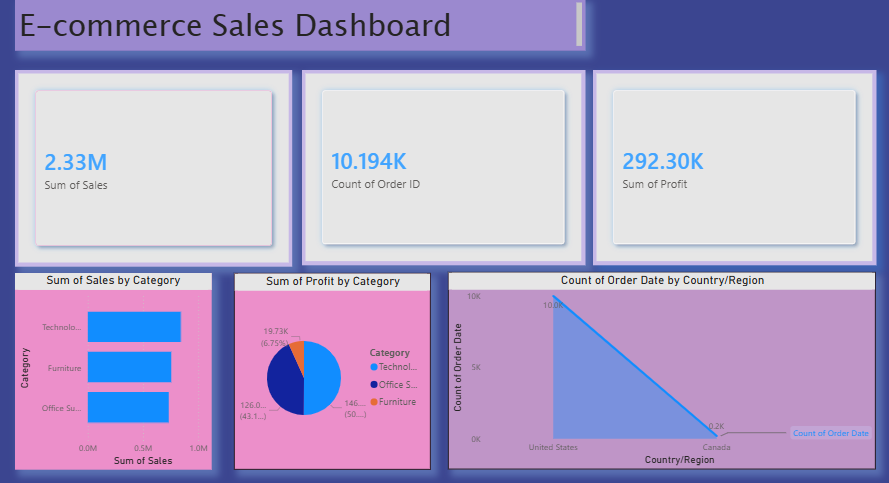

What the dashboard file says about the page in this screenshot:
{"tool":"powerbi","page":{"name":"Page 1","canvas":[1280,720],"ordinal":0},"visuals":[{"type":"cardVisual","fields":{"Data":["Sum(0f0e5ef6-4256-45c6-9f03-6c03ba8.Sales)"]},"box":[21.8,100.8,396.4,280.5],"z":0},{"type":"cardVisual","fields":{"Data":["CountNonNull(0f0e5ef6-4256-45c6-9f03-6c03ba8.Order ID)"]},"box":[431.7,100.8,404.8,278.8],"z":1000},{"type":"textbox","box":[21.8,0,814.7,73.9],"z":2000},{"type":"cardVisual","fields":{"Data":["Sum(0f0e5ef6-4256-45c6-9f03-6c03ba8.Profit)"]},"box":[846.6,100.8,404.8,278.8],"z":3000},{"type":"clusteredBarChart","fields":{"Category":["0f0e5ef6-4256-45c6-9f03-6c03ba8.Category"],"Y":["Sum(0f0e5ef6-4256-45c6-9f03-6c03ba8.Sales)"]},"box":[22,392,281,281],"z":4000},{"type":"pieChart","fields":{"Category":["0f0e5ef6-4256-45c6-9f03-6c03ba8.Category"],"Y":["Sum(0f0e5ef6-4256-45c6-9f03-6c03ba8.Profit)"]},"box":[334,392,281,281],"z":5000},{"type":"lineChart","fields":{"Category":["0f0e5ef6-4256-45c6-9f03-6c03ba8.Country/Region"],"Y":["CountNonNull(0f0e5ef6-4256-45c6-9f03-6c03ba8.Order Date)"]},"box":[640,389.7,611.4,282.2],"z":6000}]}

Visuals, with their boxes in screenshot pixels (x1, y1, x2, y2):
cardVisual - Sum(0f0e5ef6-4256-45c6-9f03-6c03ba8.Sales): pyautogui.locateOnScreen(15, 69, 287, 262)
cardVisual - CountNonNull(0f0e5ef6-4256-45c6-9f03-6c03ba8.Order ID): pyautogui.locateOnScreen(297, 69, 575, 261)
textbox: pyautogui.locateOnScreen(15, 0, 575, 51)
cardVisual - Sum(0f0e5ef6-4256-45c6-9f03-6c03ba8.Profit): pyautogui.locateOnScreen(582, 69, 860, 261)
clusteredBarChart - 0f0e5ef6-4256-45c6-9f03-6c03ba8.Category x Sum(0f0e5ef6-4256-45c6-9f03-6c03ba8.Sales): pyautogui.locateOnScreen(15, 269, 208, 462)
pieChart - 0f0e5ef6-4256-45c6-9f03-6c03ba8.Category x Sum(0f0e5ef6-4256-45c6-9f03-6c03ba8.Profit): pyautogui.locateOnScreen(229, 269, 423, 462)
lineChart - 0f0e5ef6-4256-45c6-9f03-6c03ba8.Country/Region x CountNonNull(0f0e5ef6-4256-45c6-9f03-6c03ba8.Order Date): pyautogui.locateOnScreen(440, 268, 860, 462)
